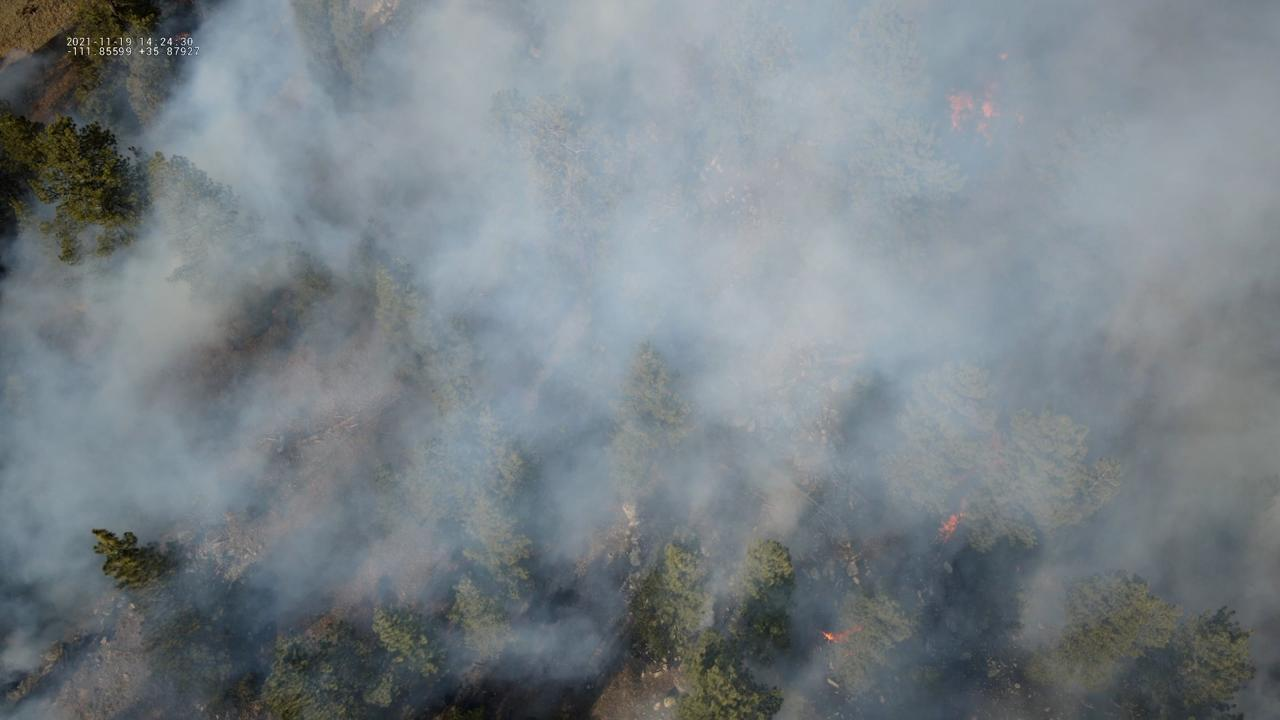fire: (946, 91, 975, 133), (935, 509, 966, 541), (817, 624, 866, 643), (980, 101, 994, 121), (999, 52, 1008, 60)
smoke: (0, 0, 1280, 720)
